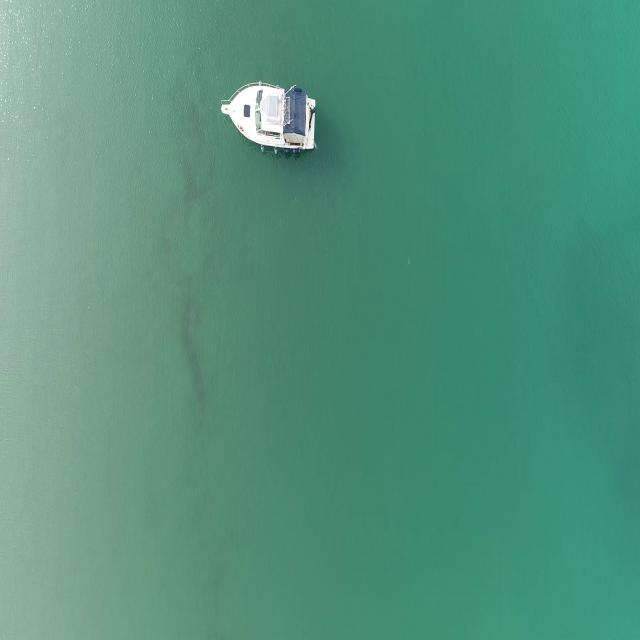boat: (219, 80, 319, 158)
